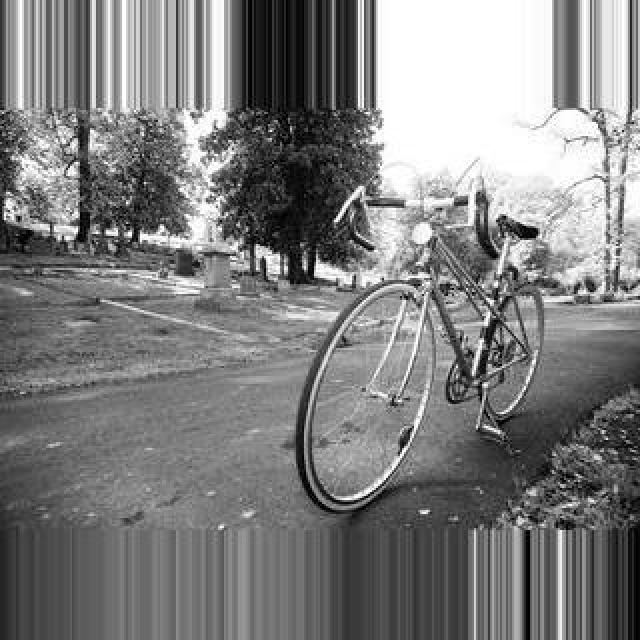Person: (291, 167, 553, 511)
